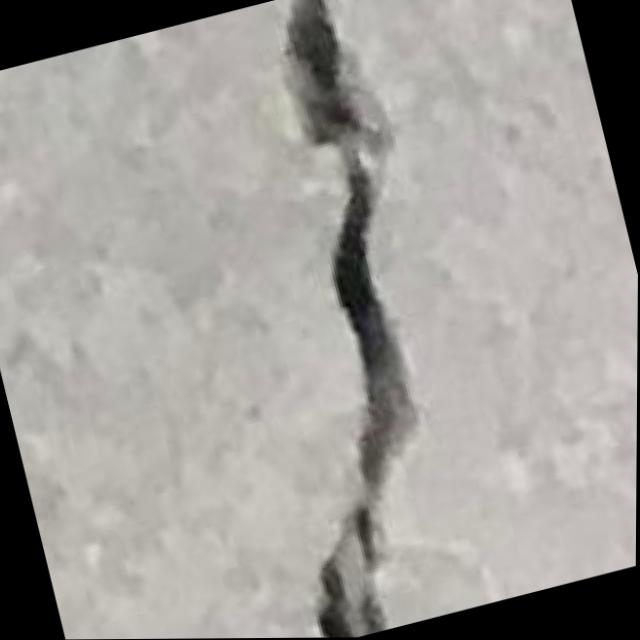Crack: (136, 0, 513, 639)
